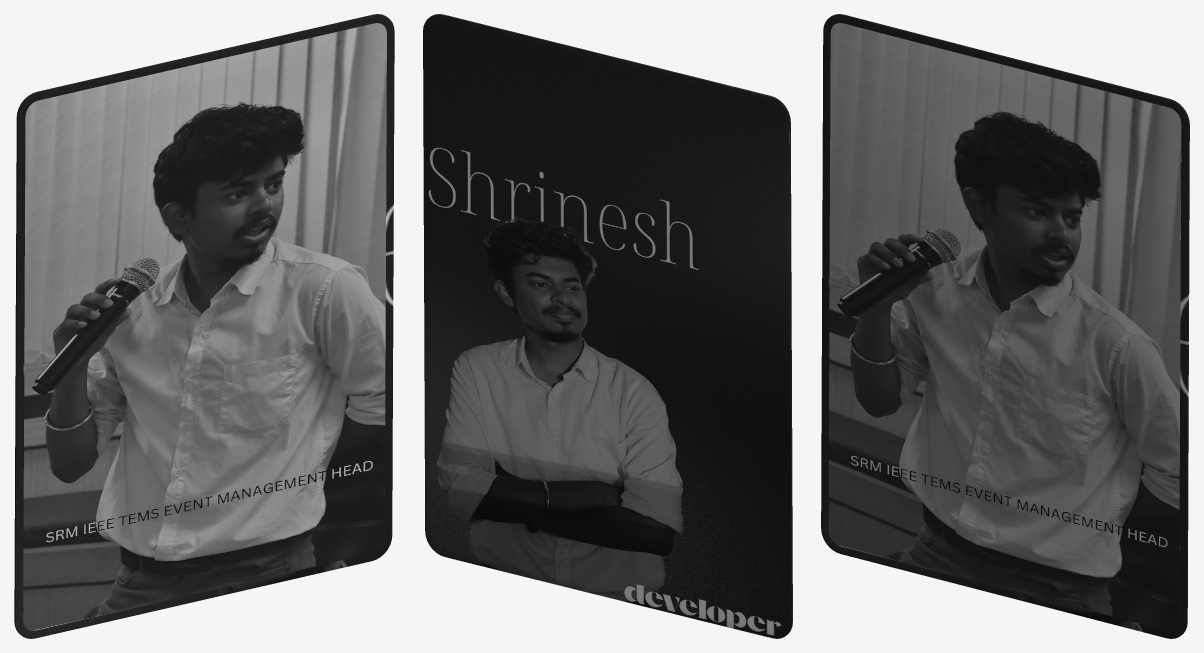
Rendered from vcard.glb.
3 views of the same model, side by side, from view 1: azimuth 30°, elevation 25°; view 2: azimuth 150°, elevation 25°; view 3: azimuth 330°, elevation 25° (orthographic).
Parts seen in each view (by area): view 1: clip.001; view 2: clip.001; view 3: clip.001.
Boxes of the visible parts, x1=… form: clip.001: x1=14, y1=14, x2=394, y2=638; clip.001: x1=423, y1=14, x2=792, y2=638; clip.001: x1=821, y1=14, x2=1189, y2=638.
Bounding box in the file's own units: 0.7207 × 1 × 0.016.
Materials: 2 (2 with a texture image).
